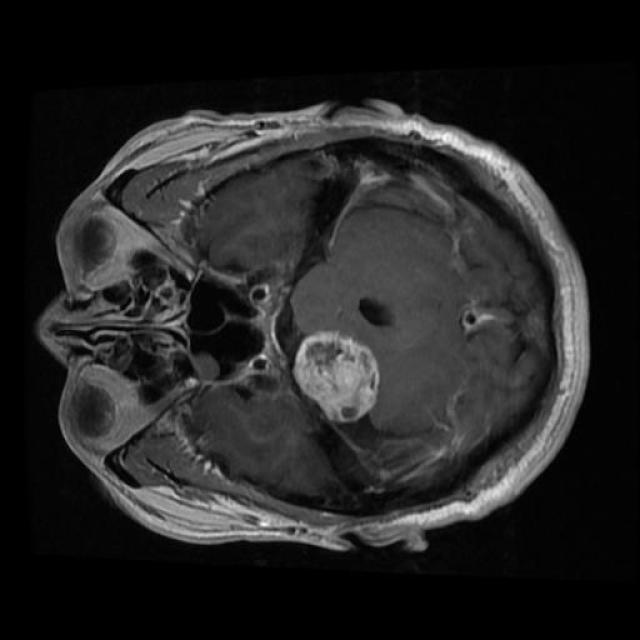Meningioma: (292, 331, 379, 421)
